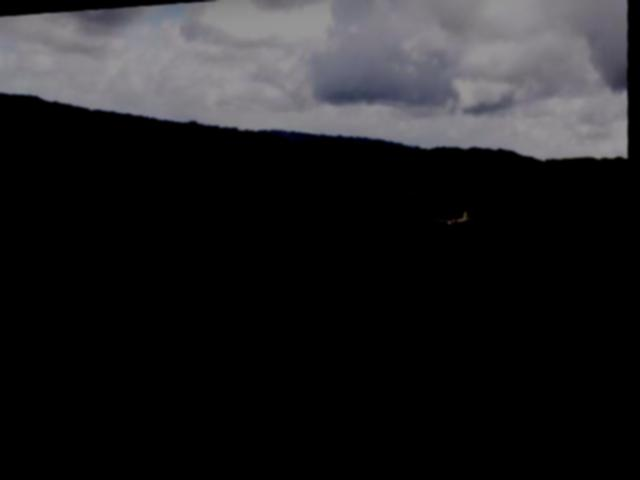iha: (424, 210, 489, 234)
